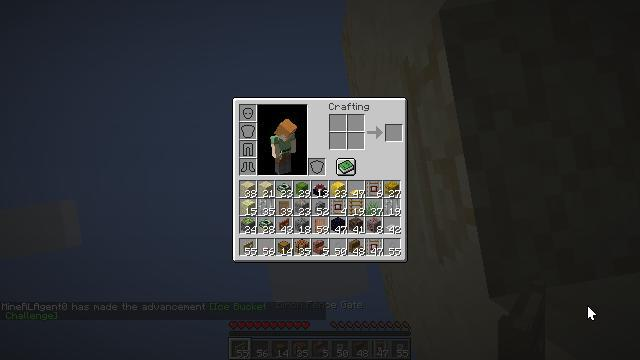cursor: (587, 305, 597, 321)
